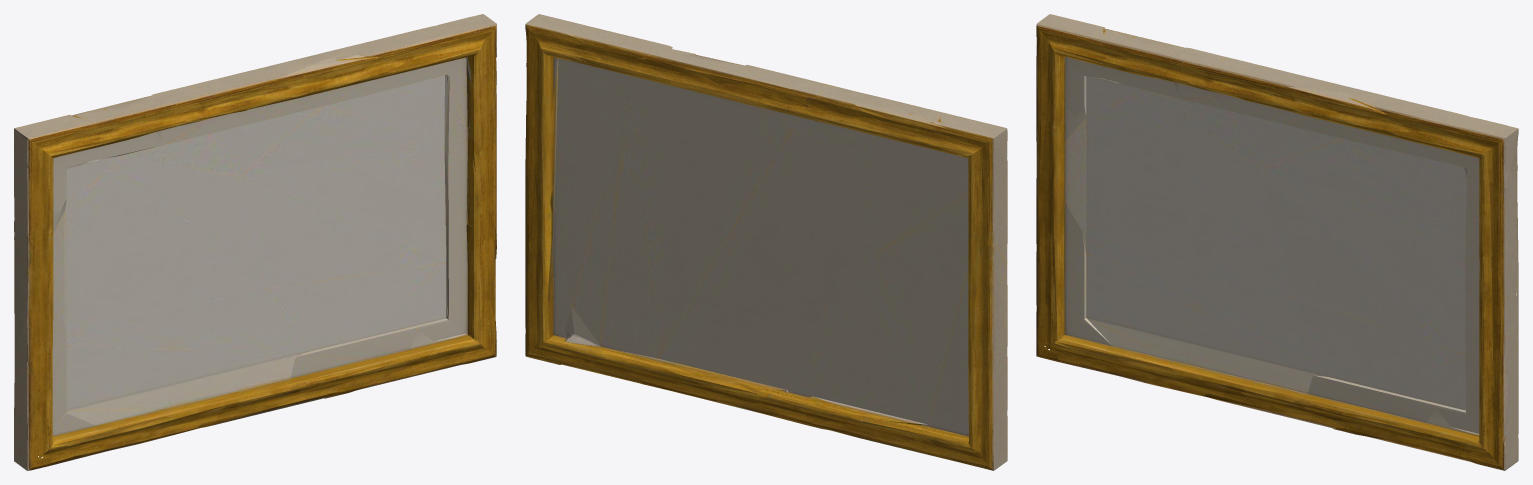
The model's file is w5frame.glb.
3 views of the same model, side by side, from view 1: azimuth 30°, elevation 25°; view 2: azimuth 150°, elevation 25°; view 3: azimuth 330°, elevation 25° (orthographic).
Parts seen in each view (by area): view 1: output_unwrapped; view 2: output_unwrapped; view 3: output_unwrapped.
Boxes of the visible parts, left/top/right/bottom form: output_unwrapped: left=14, top=14, right=496, bottom=470; output_unwrapped: left=525, top=14, right=1007, bottom=470; output_unwrapped: left=1036, top=14, right=1518, bottom=470.
Bounding box in the file's own units: 0.68 × 0.4614 × 0.0477.
1 material, 1 textured.
